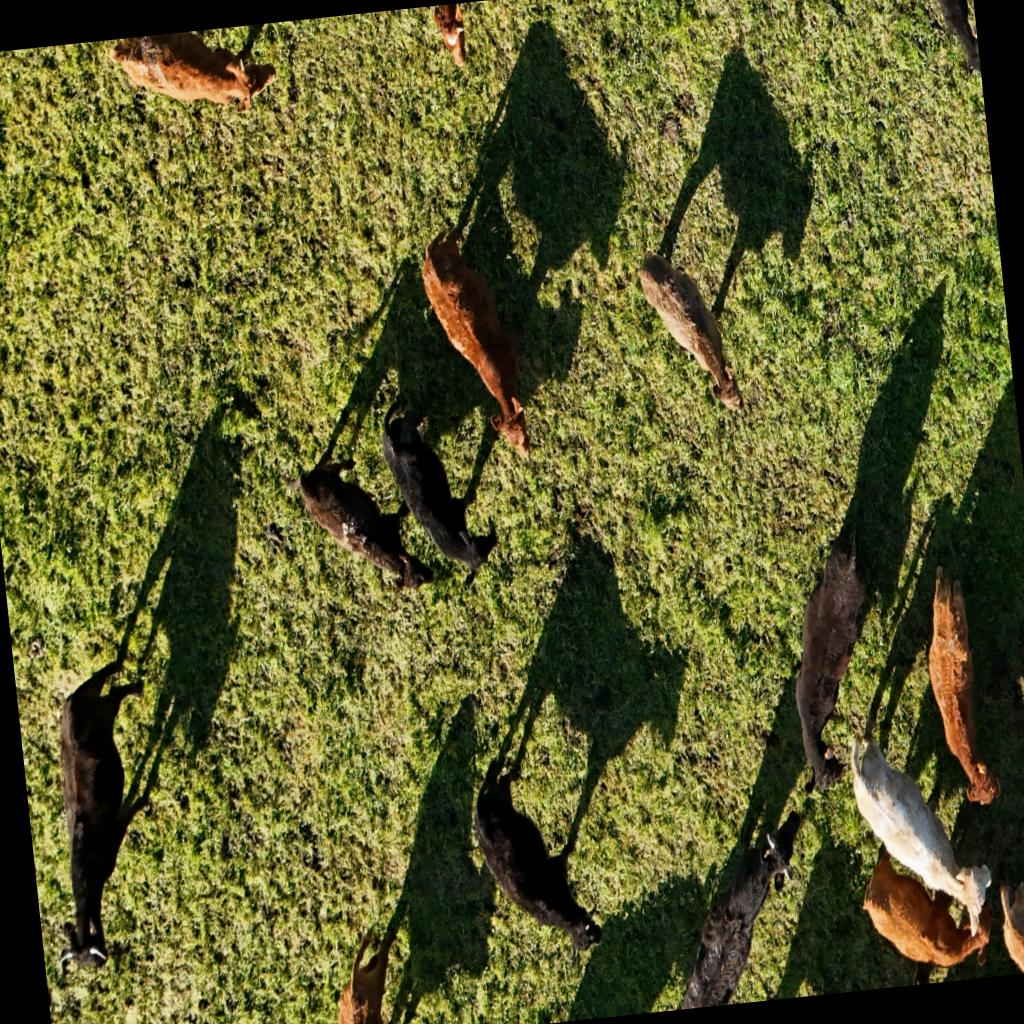cow: (26, 649, 180, 971), (844, 718, 995, 926), (777, 524, 893, 792), (470, 741, 604, 967), (664, 804, 812, 1006), (416, 221, 532, 465), (382, 404, 504, 591), (856, 830, 998, 982), (916, 560, 996, 814), (106, 22, 282, 128), (638, 245, 744, 420), (305, 449, 426, 599), (994, 870, 1024, 975)
